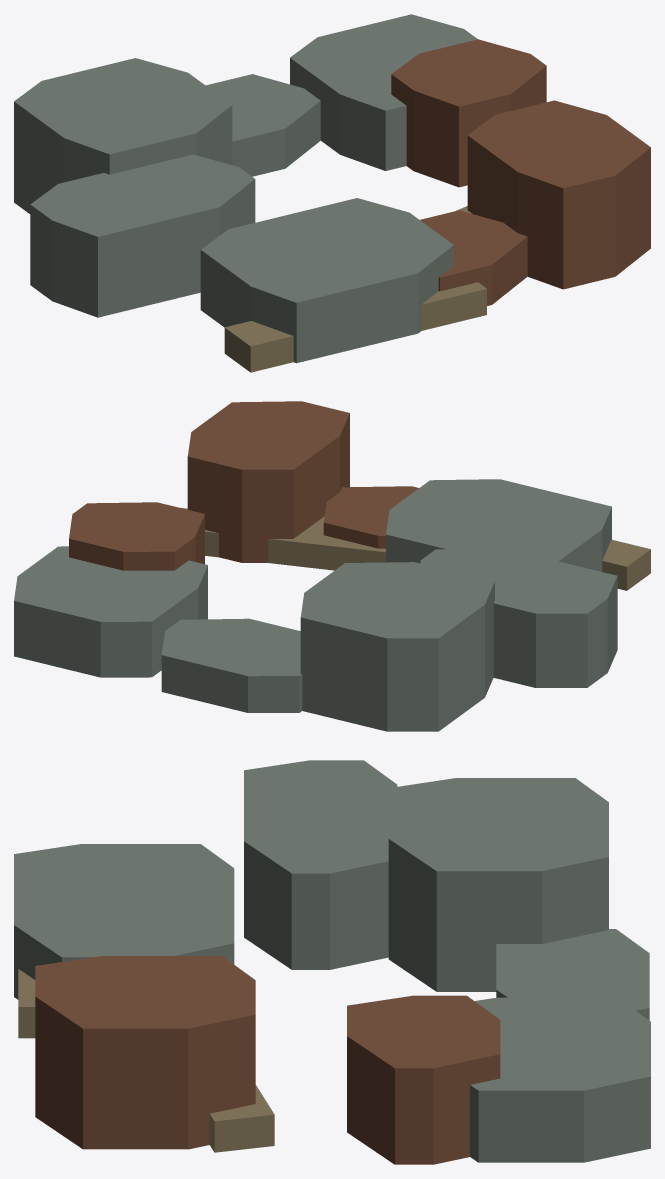
The model's file is lv119-rubble-cluster.glb.
3 views of the same model, one above another, from view 1: azimuth 30°, elevation 25°; view 2: azimuth 150°, elevation 25°; view 3: azimuth 270°, elevation 25° (orthographic). The views are drawn at different scales.
Parts seen in each view (by area): view 1: rubble-cluster; view 2: rubble-cluster; view 3: rubble-cluster.
Boxes of the visible parts, x1=… form: rubble-cluster: x1=14, y1=14, x2=650, y2=372; rubble-cluster: x1=14, y1=401, x2=650, y2=731; rubble-cluster: x1=14, y1=760, x2=650, y2=1164.
Size of the model in its own units: 0.7612 by 0.139 by 0.6648.
